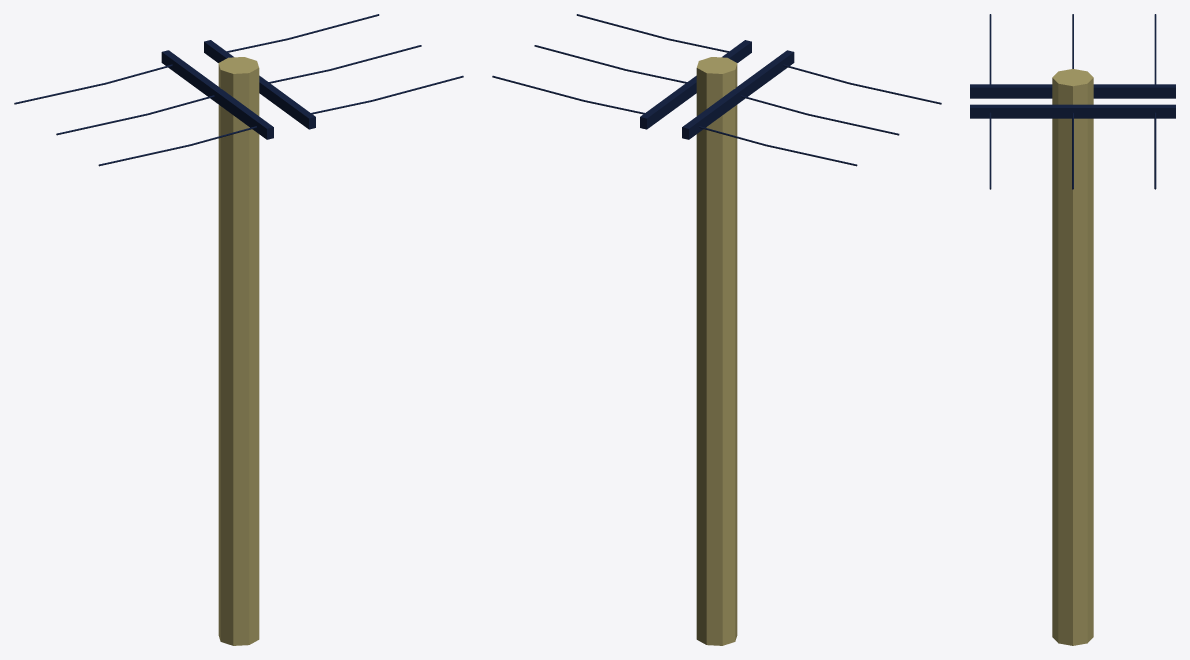
Rendered from poste_eletrico.fbx.
The picture shows the model from 3 angles, left to right: view 1: azimuth 30°, elevation 25°; view 2: azimuth 150°, elevation 25°; view 3: azimuth 270°, elevation 25°; orthographic projection. The views are drawn at different scales.
Parts seen in each view (by area): view 1: poste_eletrico; view 2: poste_eletrico; view 3: poste_eletrico.
Part boxes in pixels (box(x1,y1,x2,y2)): poste_eletrico: box(14, 14, 463, 645); poste_eletrico: box(492, 14, 941, 645); poste_eletrico: box(970, 14, 1175, 645).
Bounding box in the file's own units: 304 × 456 × 152.
